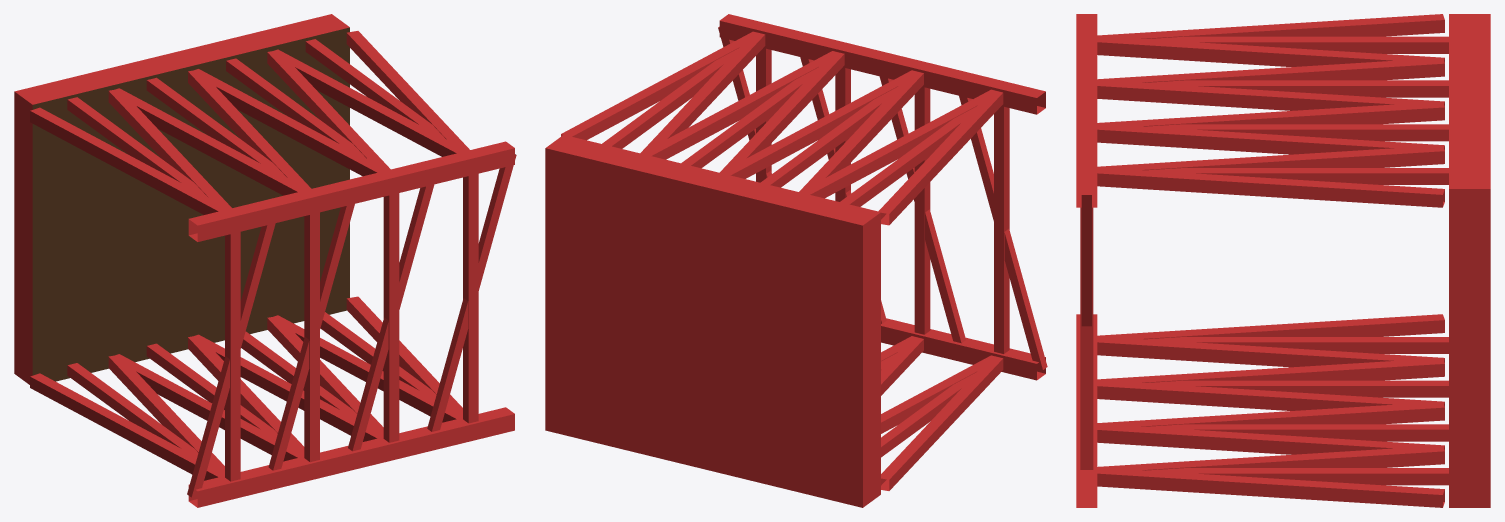
File: middle.glb
3 renders of one model, left to right at view 1: azimuth 30°, elevation 25°; view 2: azimuth 150°, elevation 25°; view 3: azimuth 270°, elevation 25°, orthographic. The views are drawn at different scales.
Visible parts, largest first — view 1: bridge_08_middle; view 2: bridge_08_middle; view 3: bridge_08_middle.
Boxes of the visible parts, bbox=[...] form: bridge_08_middle: bbox=[14, 14, 516, 507]; bridge_08_middle: bbox=[545, 14, 1047, 507]; bridge_08_middle: bbox=[1076, 14, 1490, 507].
Bounding box in the file's own units: 16.54 × 13.6 × 16.
